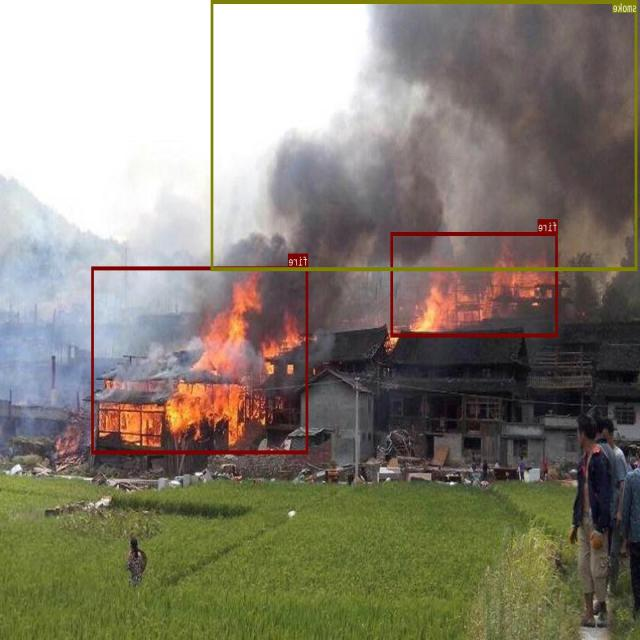fire: (92, 266, 309, 453), (392, 232, 558, 336)
smoke: (212, 0, 638, 270)
